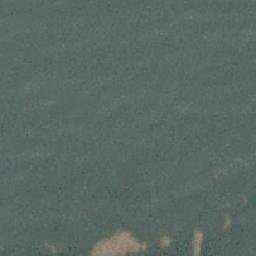debris: (89, 228, 145, 256), (188, 228, 207, 256), (222, 212, 235, 232), (158, 234, 171, 247)
